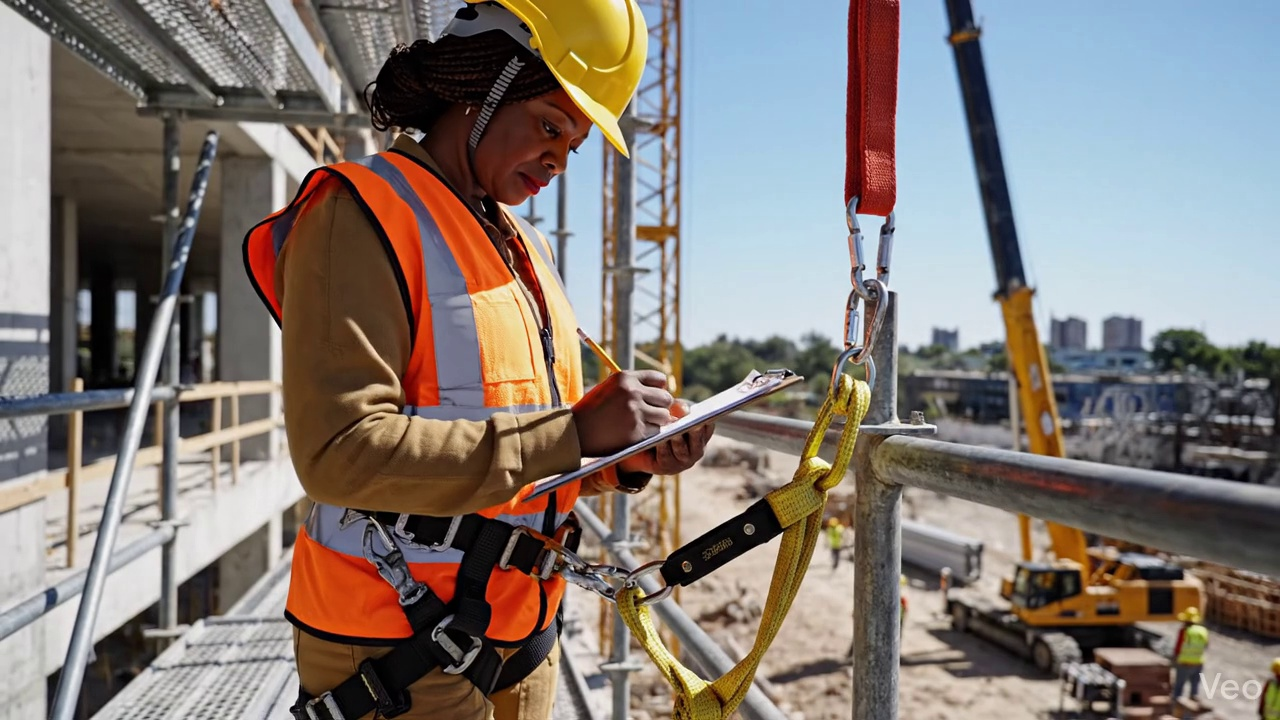p: (244, 0, 712, 719), (572, 540, 573, 541)
